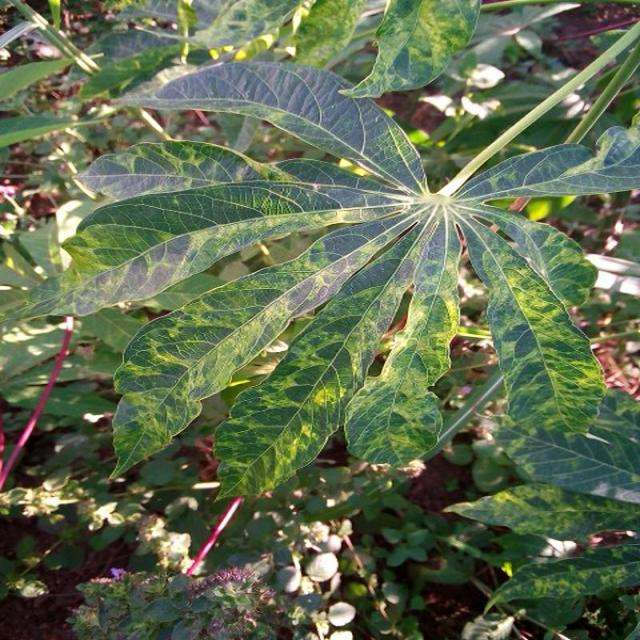cassava leaf: (9, 50, 638, 504)
